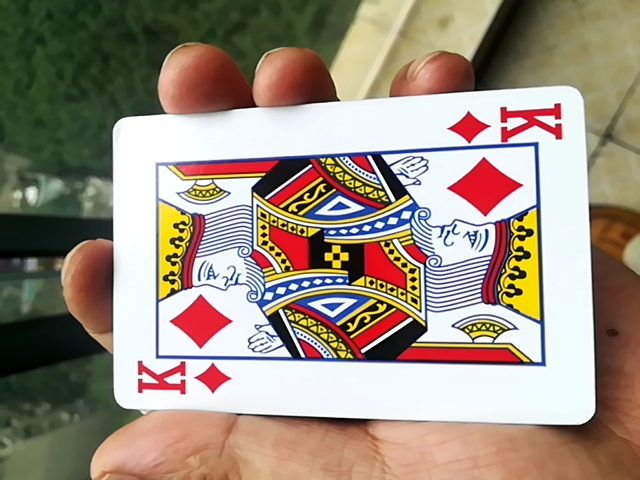fk k: (97, 96, 597, 425)
